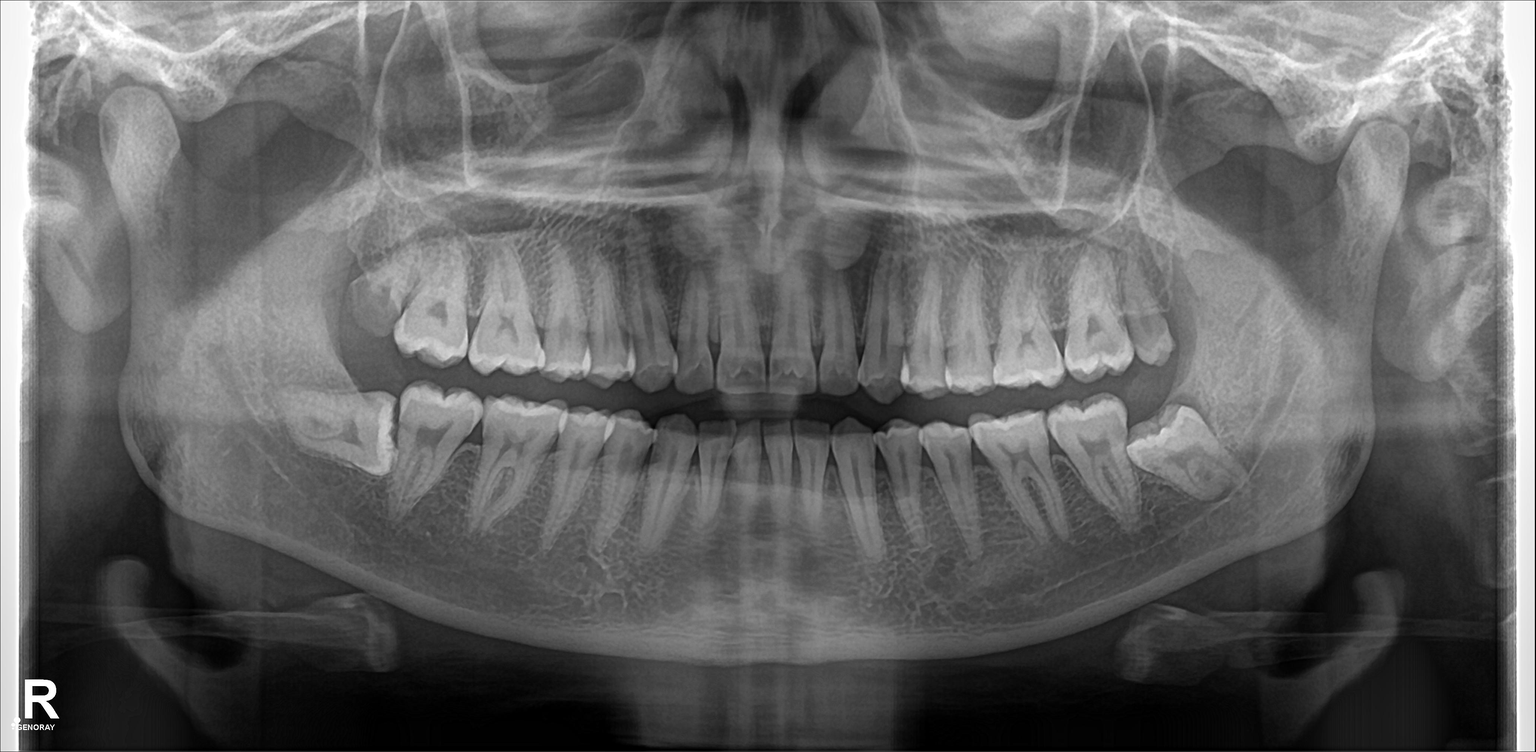Dental Caries: (345, 281, 398, 325)
Impacted Third Molar: (1125, 419, 1253, 495), (292, 396, 393, 466)
Tooth Fracture: (356, 233, 404, 334)
